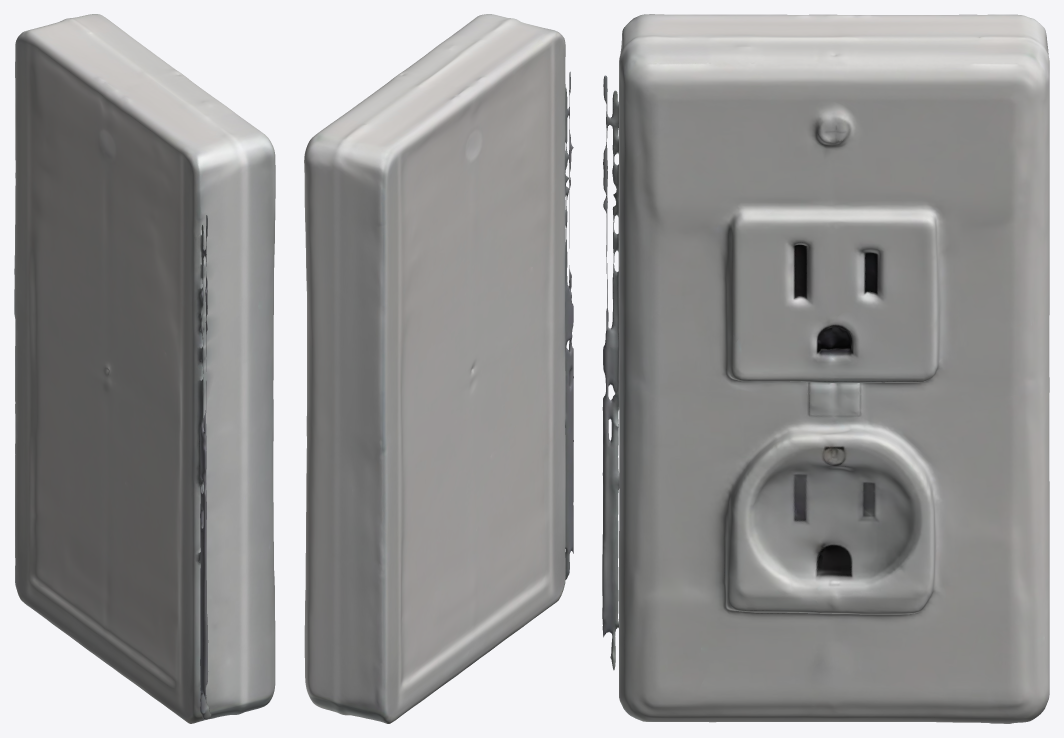
File: power plug_tripo.fbx
3 renders of one model, left to right at view 1: azimuth 30°, elevation 25°; view 2: azimuth 150°, elevation 25°; view 3: azimuth 270°, elevation 25°, orthographic. The views are drawn at different scales.
Visible parts, largest first — view 1: tripo_node_f252635c-e1a8-4584-b7ca-012376952dc8; view 2: tripo_node_f252635c-e1a8-4584-b7ca-012376952dc8; view 3: tripo_node_f252635c-e1a8-4584-b7ca-012376952dc8.
Part boxes in pixels (left/top/right/bottom): tripo_node_f252635c-e1a8-4584-b7ca-012376952dc8: left=14, top=14, right=275, bottom=723; tripo_node_f252635c-e1a8-4584-b7ca-012376952dc8: left=304, top=14, right=573, bottom=723; tripo_node_f252635c-e1a8-4584-b7ca-012376952dc8: left=602, top=14, right=1049, bottom=723.
Size of the model in its own units: 17.6 by 55.62 by 92.2.
Materials: 1 (1 with a texture image).
